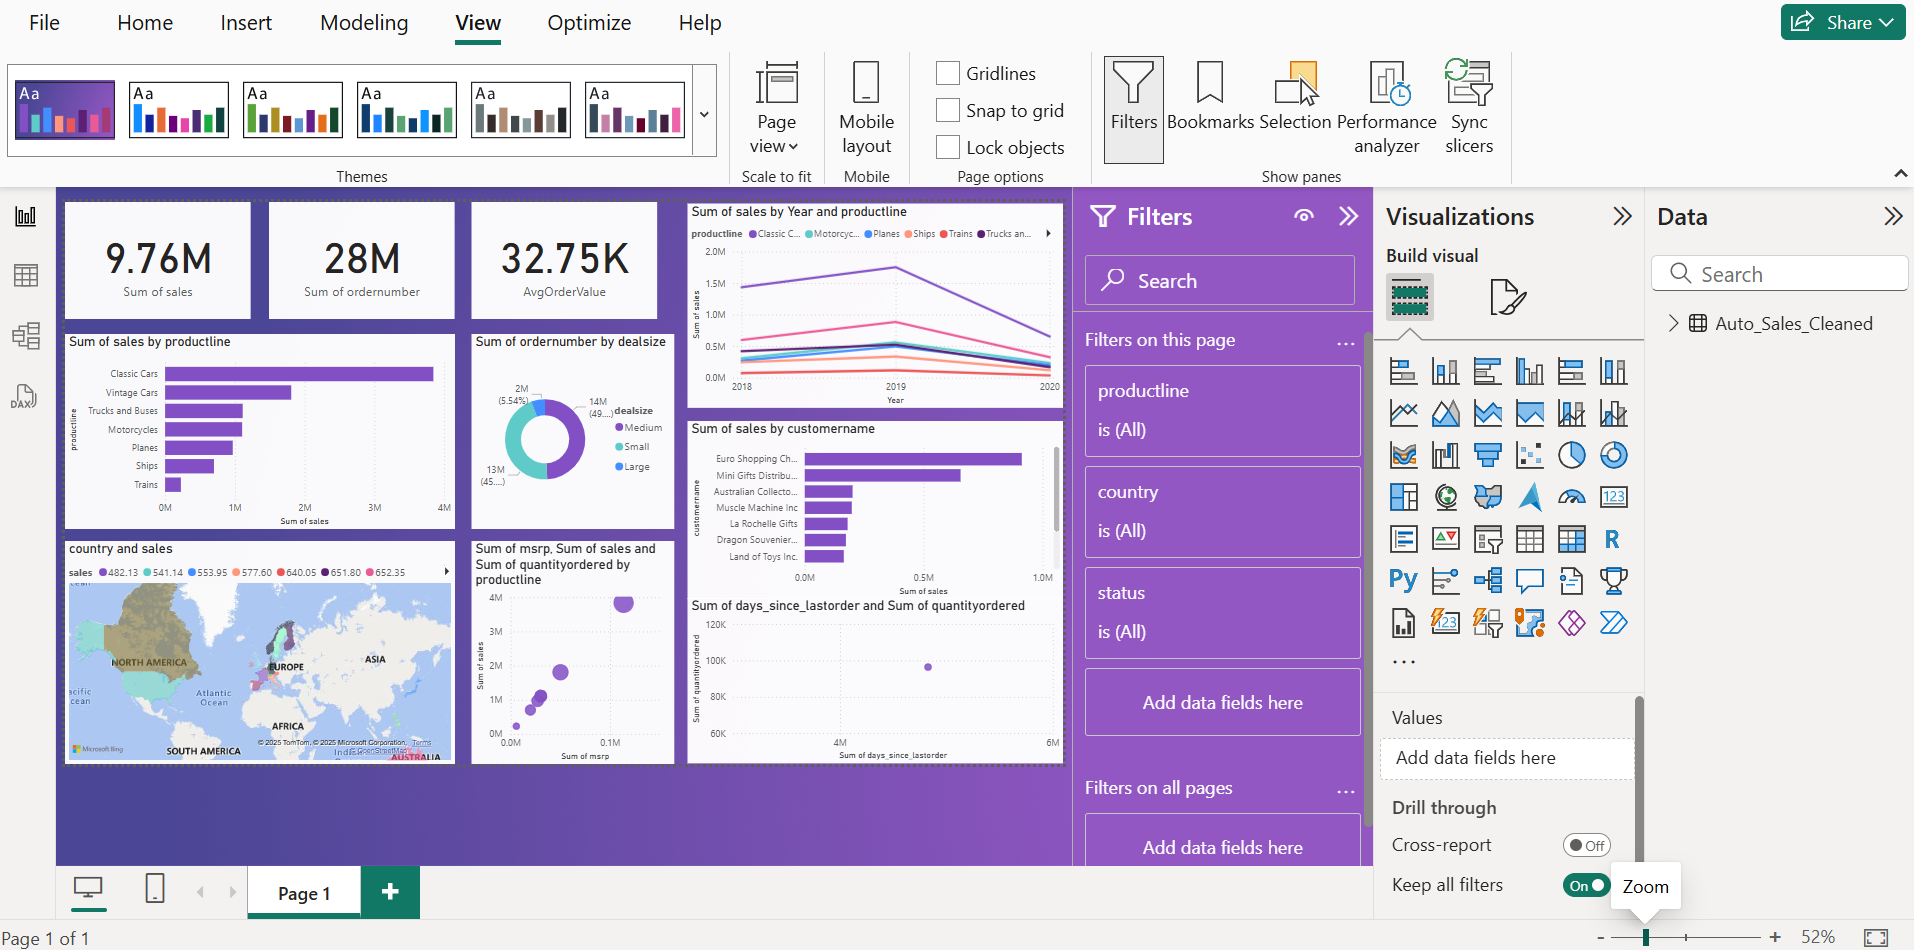

The dashboard page shown, as its layout file describes it:
{"tool":"powerbi","page":{"name":"Page 1","canvas":[1280,720],"ordinal":0},"visuals":[{"type":"card","fields":{"Values":["Sum(Auto_Sales_Cleaned.sales)"]},"box":[0,0,238,150],"z":0},{"type":"card","fields":{"Values":["Sum(Auto_Sales_Cleaned.ordernumber)"]},"box":[262,0,238,150],"z":1000},{"type":"card","fields":{"Values":["Auto_Sales_Cleaned.AvgOrderValue"]},"box":[522,0,238,150],"z":2000},{"type":"lineChart","fields":{"Y":["Sum(Auto_Sales_Cleaned.sales)"],"Series":["Auto_Sales_Cleaned.productline"],"Category":["Auto_Sales_Cleaned.orderdate.Variation.Date Hierarchy.Year"]},"box":[798,2,482,262],"z":3000},{"type":"clusteredBarChart","fields":{"Category":["Auto_Sales_Cleaned.productline"],"Y":["Sum(Auto_Sales_Cleaned.sales)"]},"box":[0,170,500,250],"z":4000},{"type":"filledMap","fields":{"Category":["Auto_Sales_Cleaned.country"],"Series":["Auto_Sales_Cleaned.sales"]},"box":[0,434,500,286],"z":5000},{"type":"clusteredBarChart","fields":{"Category":["Auto_Sales_Cleaned.customername"],"Y":["Sum(Auto_Sales_Cleaned.sales)"]},"box":[798,280,482,228],"z":6000},{"type":"donutChart","fields":{"Category":["Auto_Sales_Cleaned.dealsize"],"Y":["Sum(Auto_Sales_Cleaned.ordernumber)"]},"box":[522,170,260,250],"z":7000},{"type":"scatterChart","fields":{"X":["Sum(Auto_Sales_Cleaned.msrp)"],"Y":["Sum(Auto_Sales_Cleaned.sales)"],"Category":["Auto_Sales_Cleaned.productline"],"Size":["Sum(Auto_Sales_Cleaned.quantityordered)"]},"box":[522,434,260,286],"z":8000},{"type":"scatterChart","fields":{"X":["Sum(Auto_Sales_Cleaned.days_since_lastorder)"],"Y":["Sum(Auto_Sales_Cleaned.quantityordered)"]},"box":[798,508,482,212],"z":9000}]}

Visuals, with their boxes on the page's 1280x720 design canvas (x1, y1, x2, y2). These are canvas units, not pixel positions in the 1914x950 screenshot, which may show the page scaled, cropped or inside an application window:
card - Sum(Auto_Sales_Cleaned.sales): left=0, top=0, right=238, bottom=150
card - Sum(Auto_Sales_Cleaned.ordernumber): left=262, top=0, right=500, bottom=150
card - Auto_Sales_Cleaned.AvgOrderValue: left=522, top=0, right=760, bottom=150
lineChart - Sum(Auto_Sales_Cleaned.sales) x Auto_Sales_Cleaned.productline: left=798, top=2, right=1280, bottom=264
clusteredBarChart - Auto_Sales_Cleaned.productline x Sum(Auto_Sales_Cleaned.sales): left=0, top=170, right=500, bottom=420
filledMap - Auto_Sales_Cleaned.country x Auto_Sales_Cleaned.sales: left=0, top=434, right=500, bottom=720
clusteredBarChart - Auto_Sales_Cleaned.customername x Sum(Auto_Sales_Cleaned.sales): left=798, top=280, right=1280, bottom=508
donutChart - Auto_Sales_Cleaned.dealsize x Sum(Auto_Sales_Cleaned.ordernumber): left=522, top=170, right=782, bottom=420
scatterChart - Sum(Auto_Sales_Cleaned.msrp) x Sum(Auto_Sales_Cleaned.sales): left=522, top=434, right=782, bottom=720
scatterChart - Sum(Auto_Sales_Cleaned.days_since_lastorder) x Sum(Auto_Sales_Cleaned.quantityordered): left=798, top=508, right=1280, bottom=720
